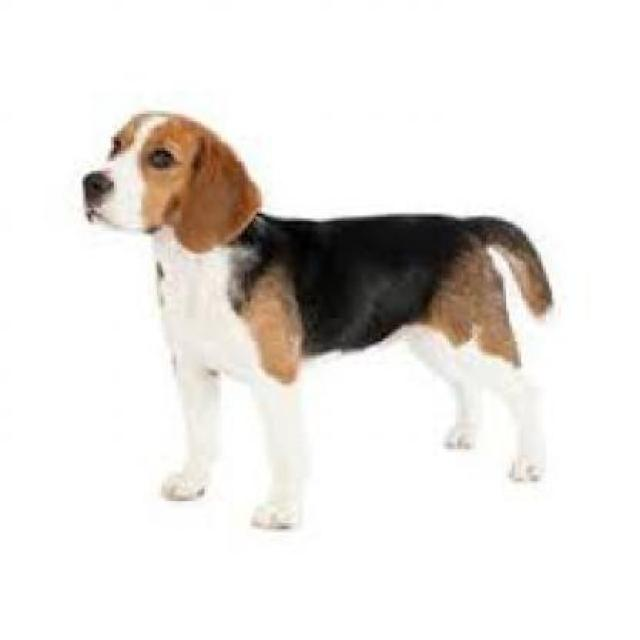Dog: (78, 111, 560, 538)
